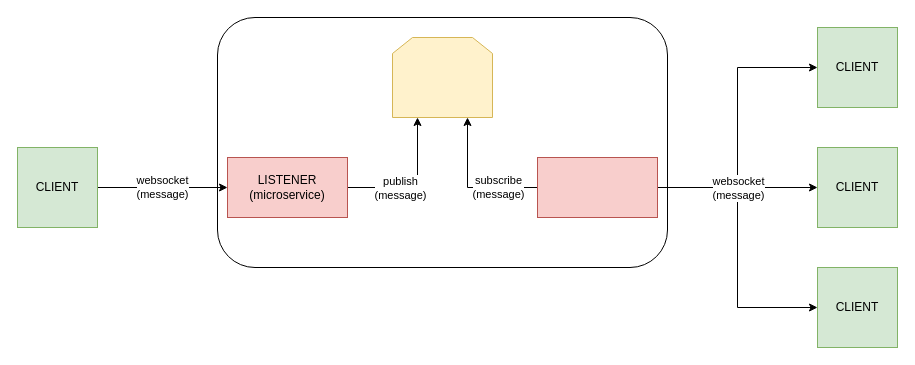
The diagram is 915 pixels wide and 365 high, and some of its shapes have lost their labels. The shapes that lost their labels are listed below. From the top down, each one's centre as x and y in pixels, then its label:
At point 442,77: "NATS SERVER [topic: message]".
At point 597,187: "NOTIFIER (microservice)".
